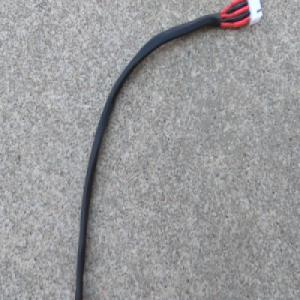Wire: (73, 0, 262, 300)
